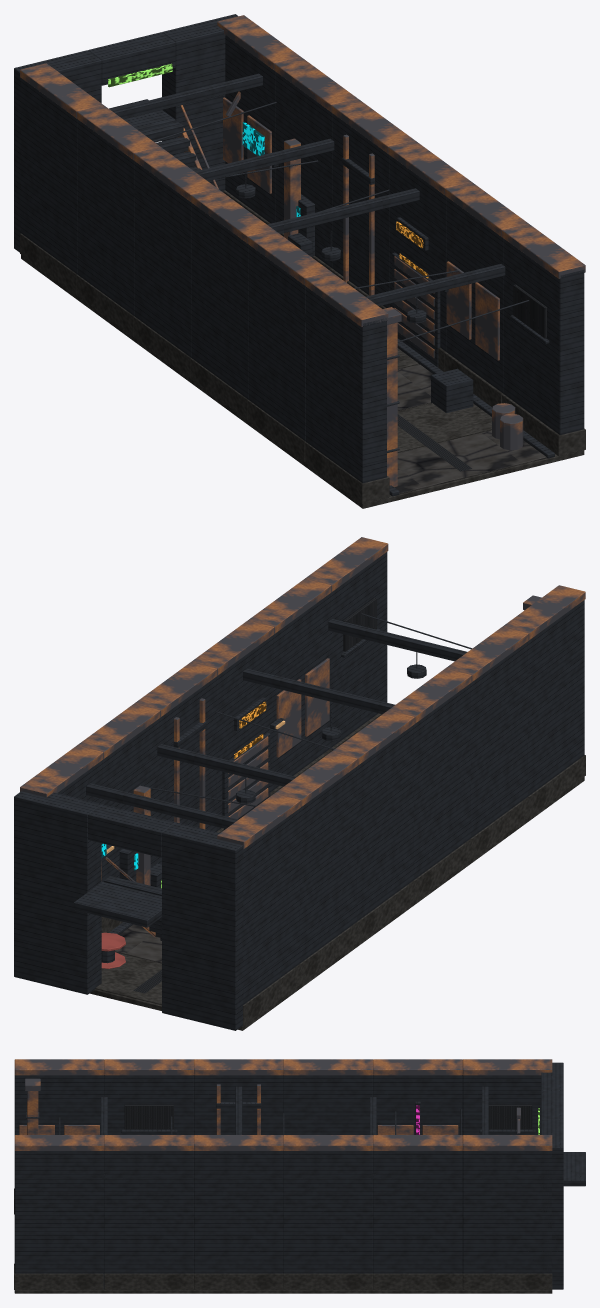
The model's file is Hesperus_SideAlley2.glb.
3 renders of one model, top to bottom at view 1: azimuth 30°, elevation 25°; view 2: azimuth 150°, elevation 25°; view 3: azimuth 270°, elevation 25°, orthographic. The views are drawn at different scales.
Visible parts, largest first — view 1: SA_WallL_00, SA_WallR_00, SA_WallL_05, SA_WallL_02, SA_WallL_04, SA_WallL_01, SA_WallL_03, SA_WallR_03, SA_EndWall_R, SA_WallR_04, SA_WallR_01, SA_WallR_02 (+46 smaller); view 2: SA_EndWall_R, SA_EndWall_L, SA_WallL_04, SA_WallL_02, SA_WallL_01, SA_WallL_00, SA_WallL_03, SA_WallL_05, SA_WallR_00, SA_WallR_01, SA_WallR_02, SA_WallR_03 (+35 smaller); view 3: SA_WallR_00, SA_WallR_03, SA_WallR_02, SA_WallR_05, SA_WallR_04, SA_WallR_01, SA_WallL_03, SA_WallL_02, SA_WallL_04, SA_WallL_00, SA_WallL_01, SA_WallL_05 (+31 smaller).
Boxes of the visible parts, left/top/right/bottom form: SA_WallL_00: left=306, top=287, right=386, bottom=483; SA_WallR_00: left=503, top=238, right=584, bottom=434; SA_WallL_05: left=21, top=78, right=77, bottom=274; SA_WallL_02: left=192, top=203, right=248, bottom=399; SA_WallL_04: left=78, top=120, right=134, bottom=316; SA_WallL_01: left=249, top=245, right=305, bottom=441; SA_WallL_03: left=135, top=161, right=191, bottom=357; SA_WallR_03: left=332, top=113, right=389, bottom=308; SA_EndWall_R: left=162, top=14, right=237, bottom=191; SA_WallR_04: left=275, top=71, right=332, bottom=267; SA_WallR_01: left=446, top=197, right=503, bottom=393; SA_WallR_02: left=389, top=155, right=446, bottom=351; SA_EndWall_R: left=14, top=791, right=101, bottom=994; SA_EndWall_L: left=162, top=822, right=249, bottom=1030; SA_WallL_04: left=299, top=767, right=356, bottom=963; SA_WallL_02: left=413, top=683, right=470, bottom=879; SA_WallL_01: left=470, top=642, right=527, bottom=838; SA_WallL_00: left=527, top=600, right=584, bottom=796; SA_WallL_03: left=356, top=725, right=413, bottom=921; SA_WallL_05: left=243, top=808, right=299, bottom=1004; SA_WallR_00: left=330, top=552, right=387, bottom=747; SA_WallR_01: left=273, top=593, right=330, bottom=789; SA_WallR_02: left=216, top=635, right=273, bottom=831; SA_WallR_03: left=159, top=677, right=216, bottom=864; SA_WallR_00: left=14, top=1151, right=104, bottom=1289; SA_WallR_03: left=283, top=1151, right=373, bottom=1273; SA_WallR_02: left=194, top=1151, right=283, bottom=1273; SA_WallR_05: left=462, top=1151, right=551, bottom=1273; SA_WallR_04: left=373, top=1151, right=462, bottom=1273; SA_WallR_01: left=104, top=1151, right=193, bottom=1273; SA_WallL_03: left=283, top=1075, right=373, bottom=1134; SA_WallL_02: left=194, top=1075, right=283, bottom=1134; SA_WallL_04: left=373, top=1075, right=462, bottom=1134; SA_WallL_00: left=14, top=1075, right=104, bottom=1134; SA_WallL_01: left=104, top=1075, right=193, bottom=1134; SA_WallL_05: left=462, top=1075, right=541, bottom=1134.
Size of the model in its own units: 9.1 by 7.35 by 25.54.
13 materials, 12 textured.
